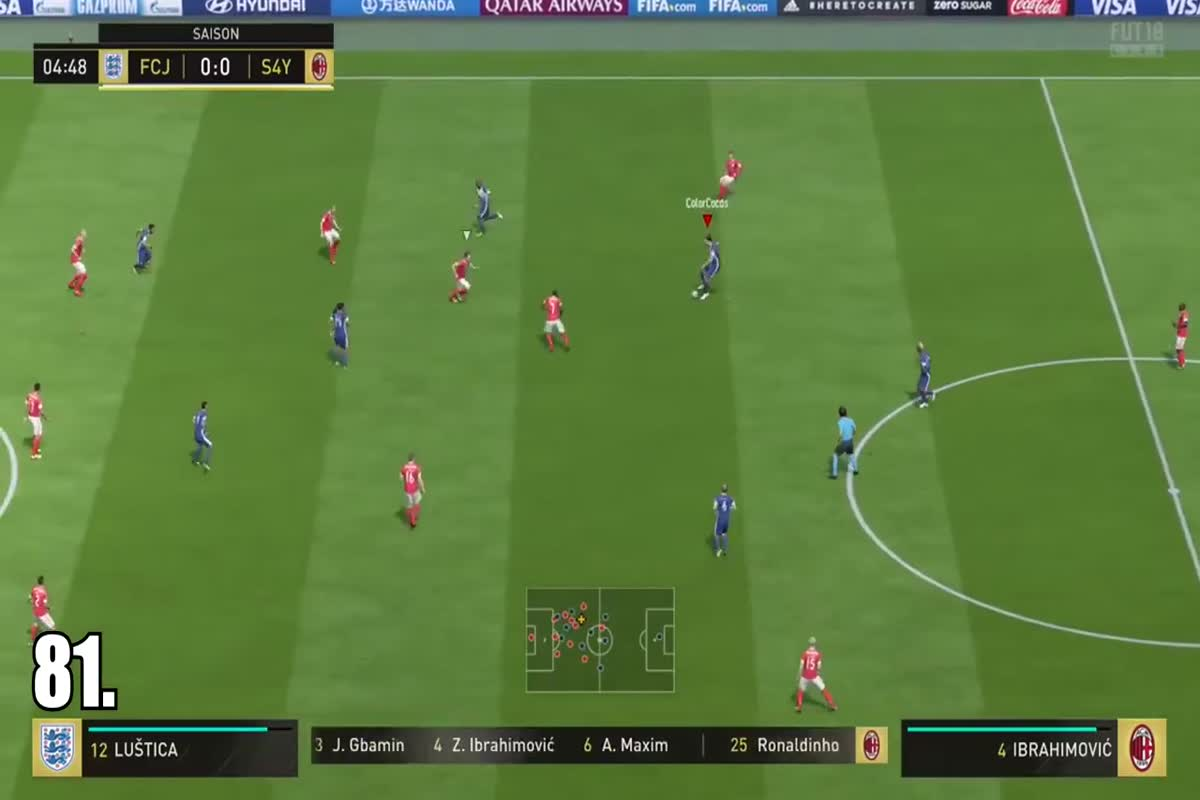ball: (685, 284, 704, 305)
